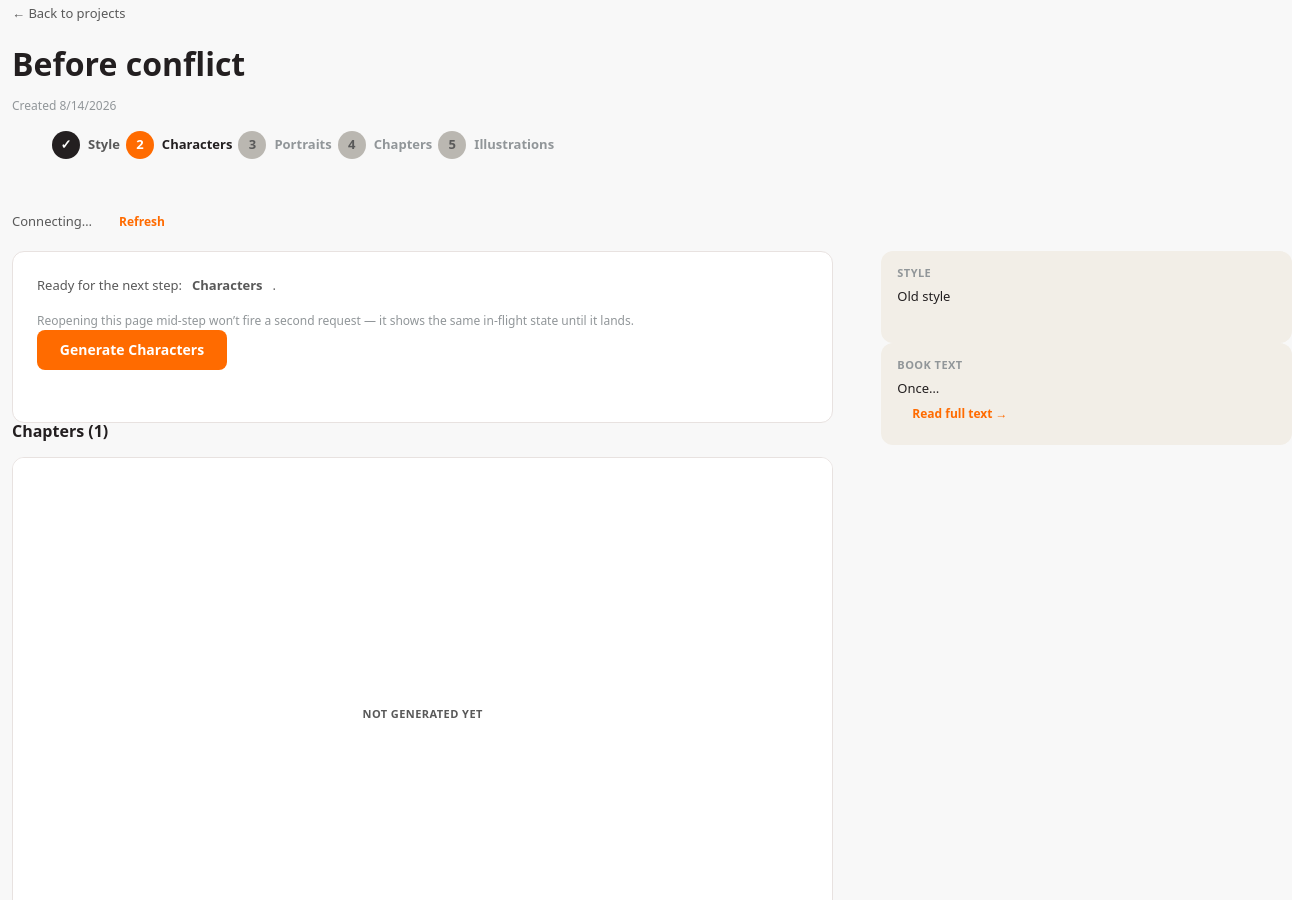
Test: a 409 renders current truth rather than a pipeline failure
The image size is (1292, 900).
What coordinates should you click on to do the following:
click the button "Generate Characters"
I would click on:
 (132, 350)
Its box is [37, 330, 227, 370].
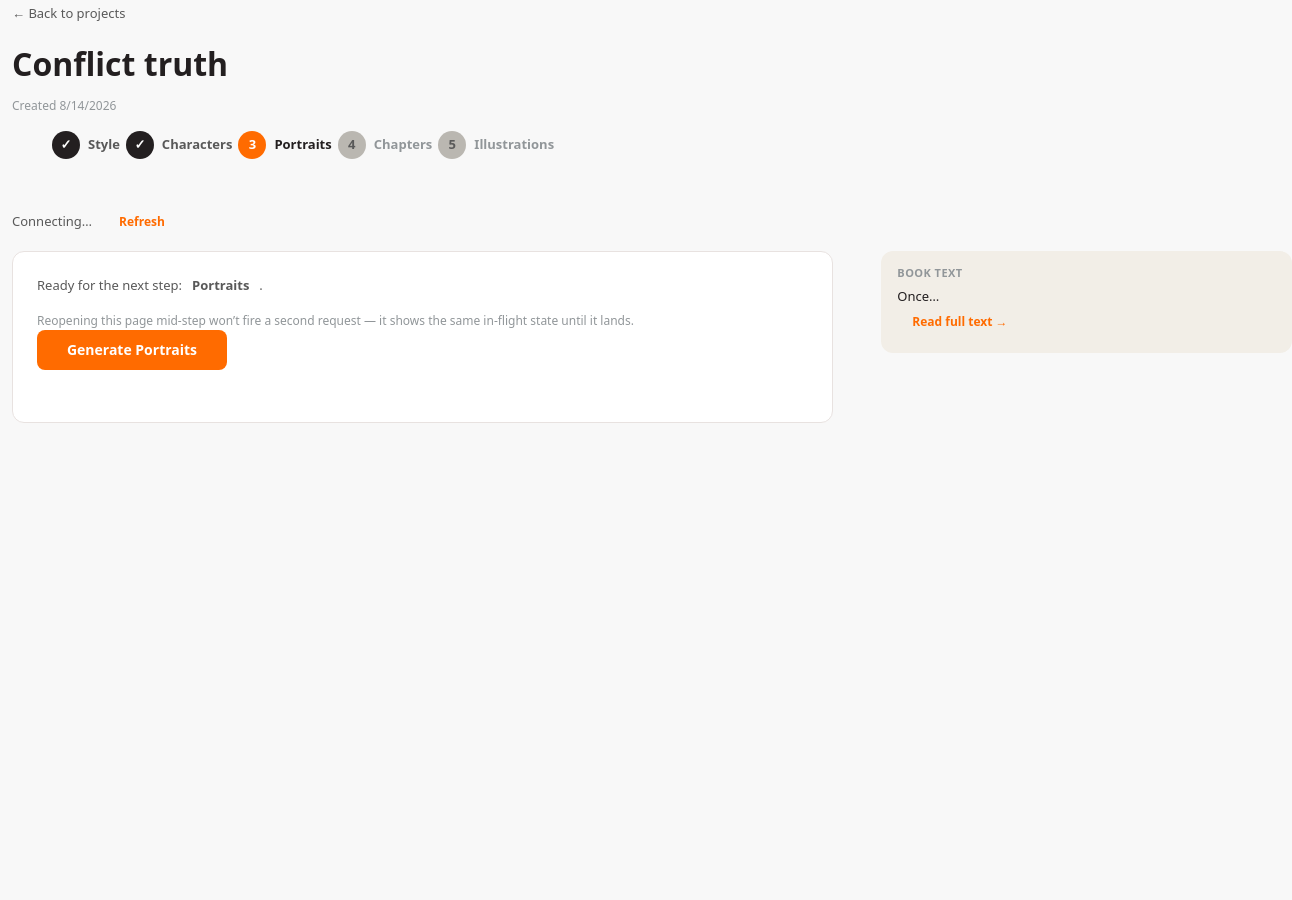
Expected: the button "Generate Portraits" is shown, [37, 330, 227, 370]
Expected: the heading "Conflict truth" is shown, [12, 42, 228, 85]
Expected: the heading "Before conflict" is gone
